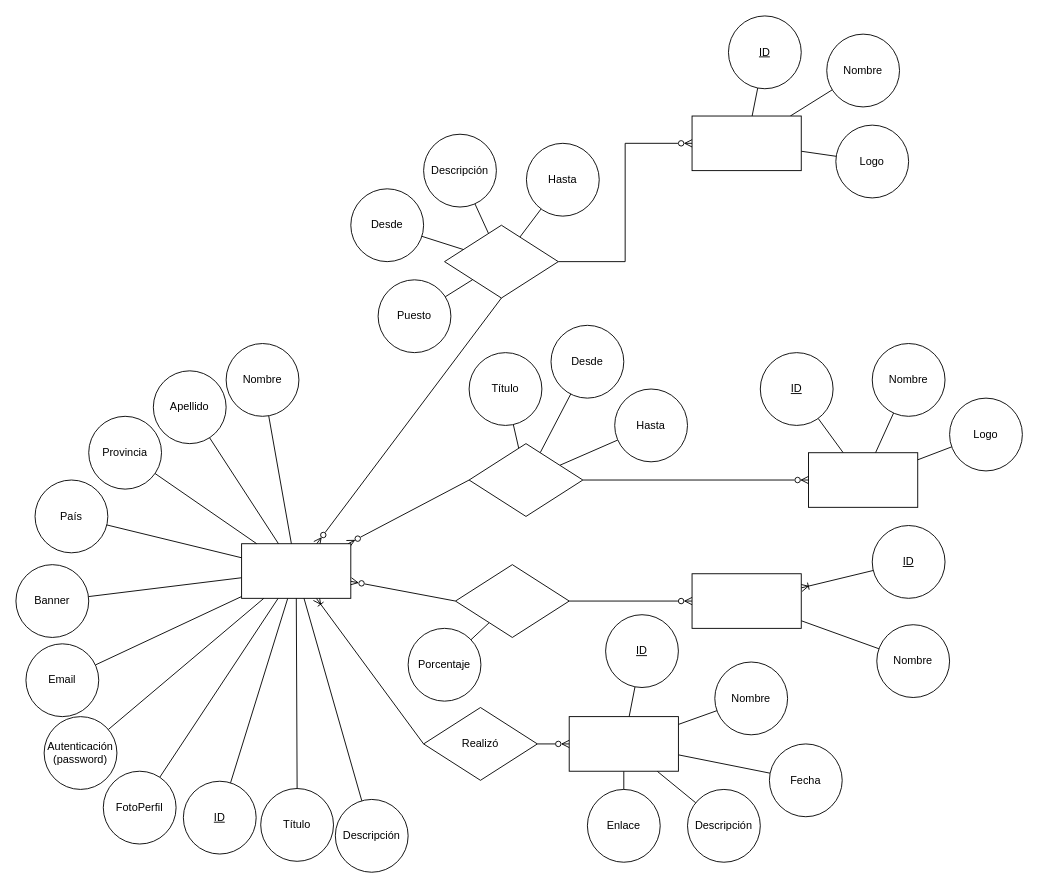
Image size: 1038x888. Some labels were removed from this diagram. The shapes that lost their labels are listed below. From the top down, each one's centre as x and y in pixels, then its label:
[746,143]: Organización
[501,261]: Trabajó en
[525,479]: Se educó en...
[863,479]: Institución
[296,570]: Persona
[512,600]: Tiene
[746,600]: Habilidad
[623,743]: Proyecto
